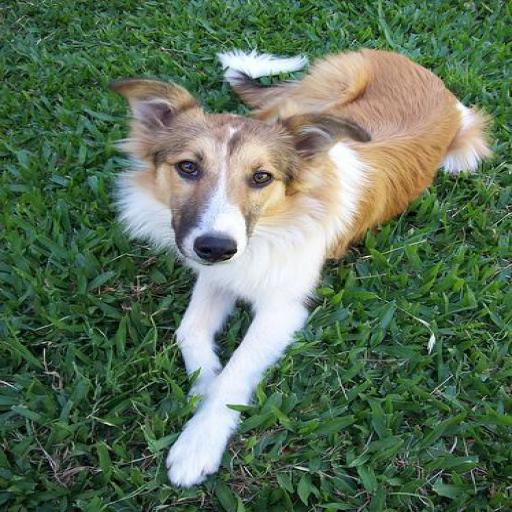dog_face: (86, 78, 364, 282)
